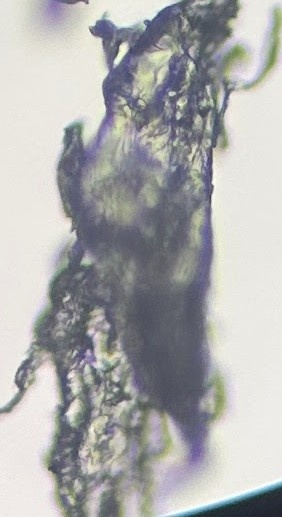microplastic: (1, 1, 281, 517)
